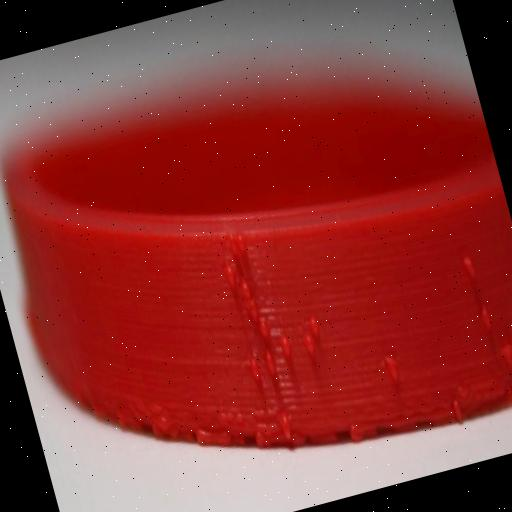blobs: (253, 308, 274, 351), (274, 324, 296, 365), (276, 409, 298, 447), (234, 268, 255, 306), (301, 332, 322, 368), (306, 310, 326, 346), (382, 354, 402, 388), (476, 299, 494, 336), (222, 254, 240, 290), (260, 346, 279, 380), (246, 352, 264, 387), (448, 394, 467, 426), (225, 228, 242, 262), (460, 243, 476, 276), (505, 336, 512, 373)
